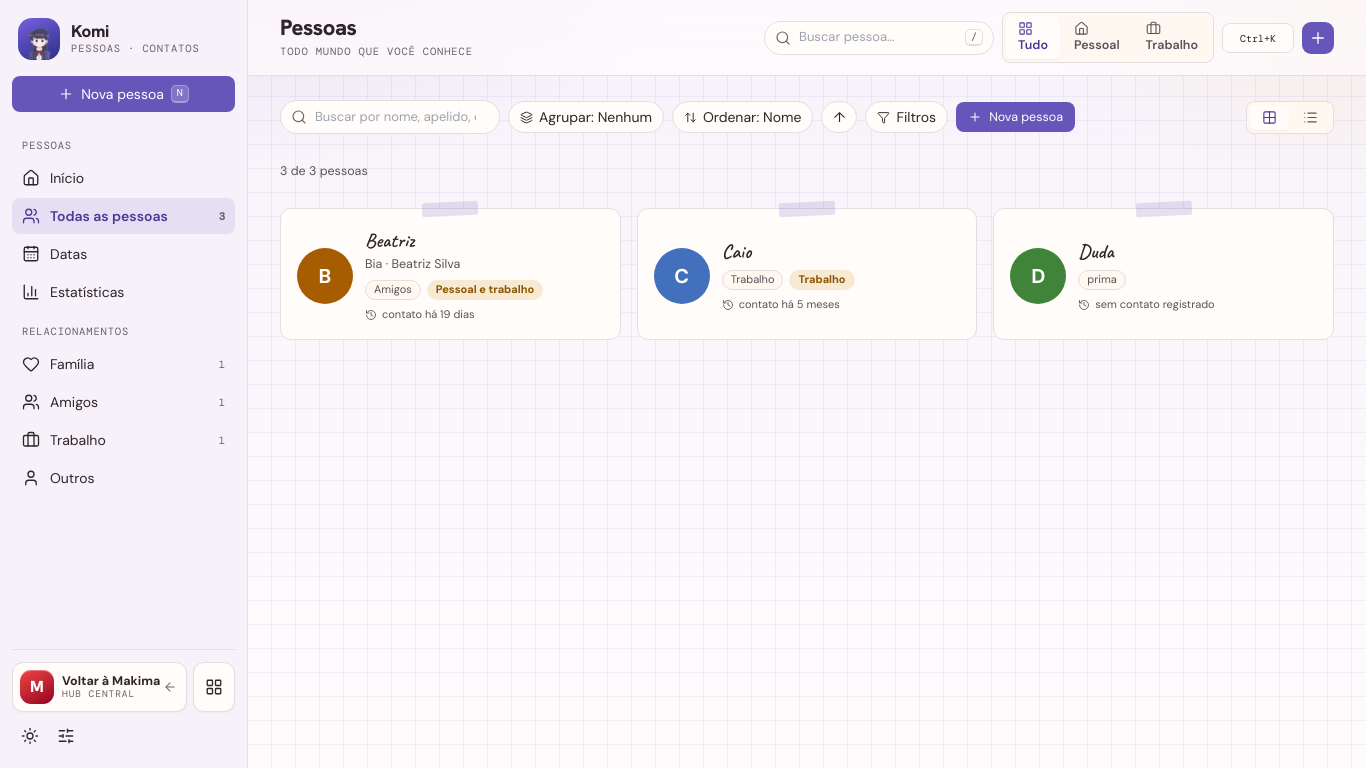
Test: Pessoas › relacionamento do menu recorta a lista
The width and height of the screenshot is (1366, 768).
Expected: the text "Duda" is shown, [1078,239,1114,264]
Step 1. Click the button "Família 1" → click(124, 364), box [12,346,235,382]
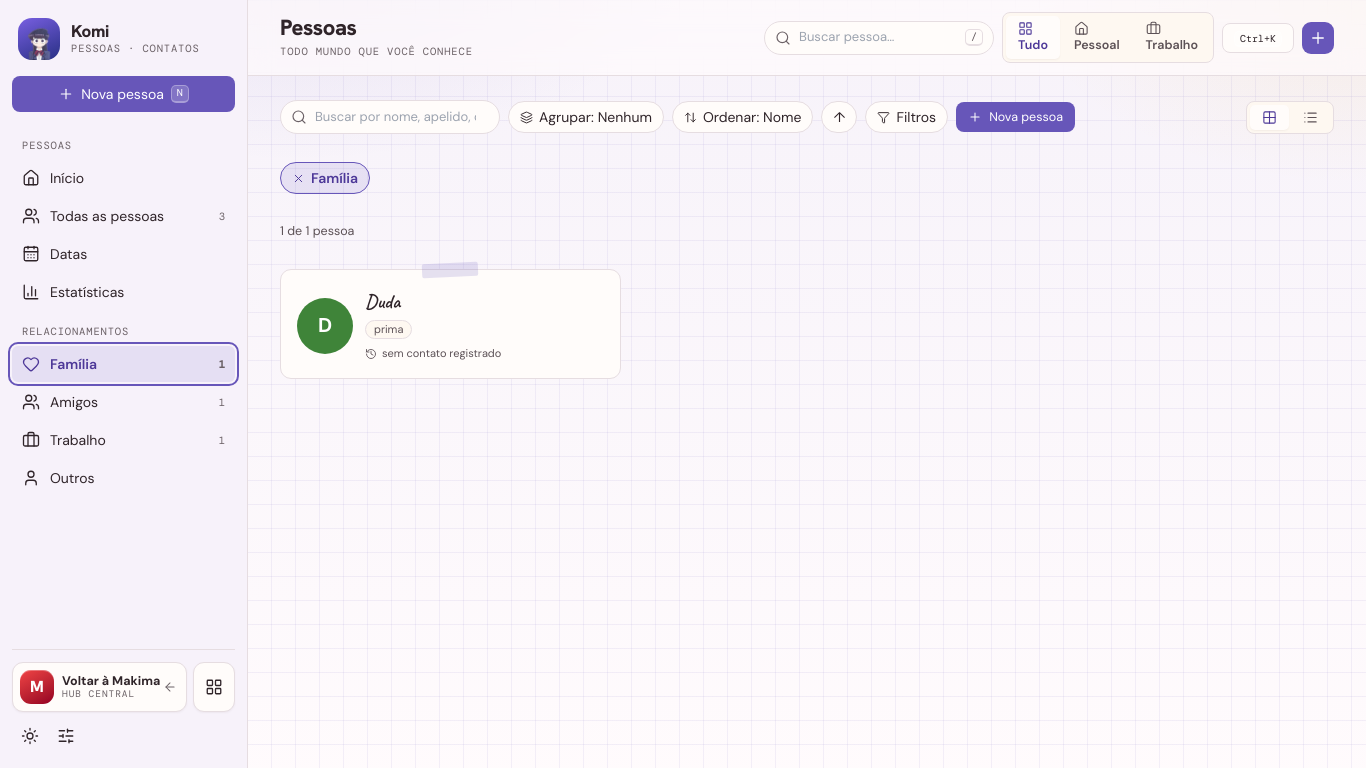
Expected: the text "Duda" is shown, [365,288,400,314]
Expected: the button "Caio" is gone
